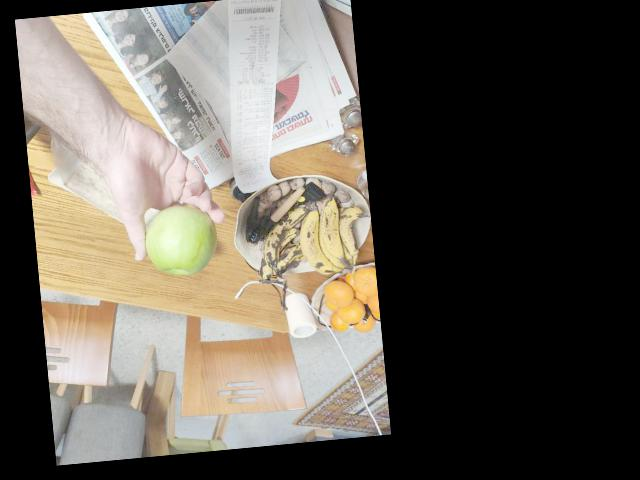apple: (142, 198, 222, 276)
